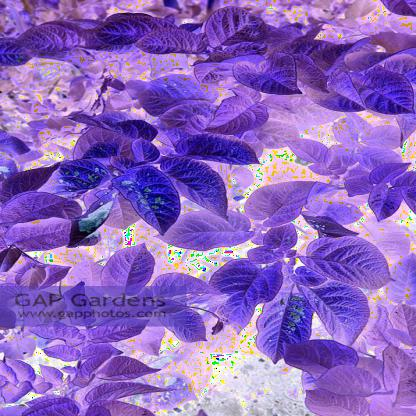Potato leaf: (297, 232, 401, 294), (207, 259, 283, 333), (155, 155, 233, 218), (137, 74, 224, 118), (226, 54, 307, 98), (171, 133, 265, 168), (208, 97, 272, 137)
Potato leaf early blight: (111, 165, 186, 233), (270, 292, 315, 363), (53, 159, 120, 188)
